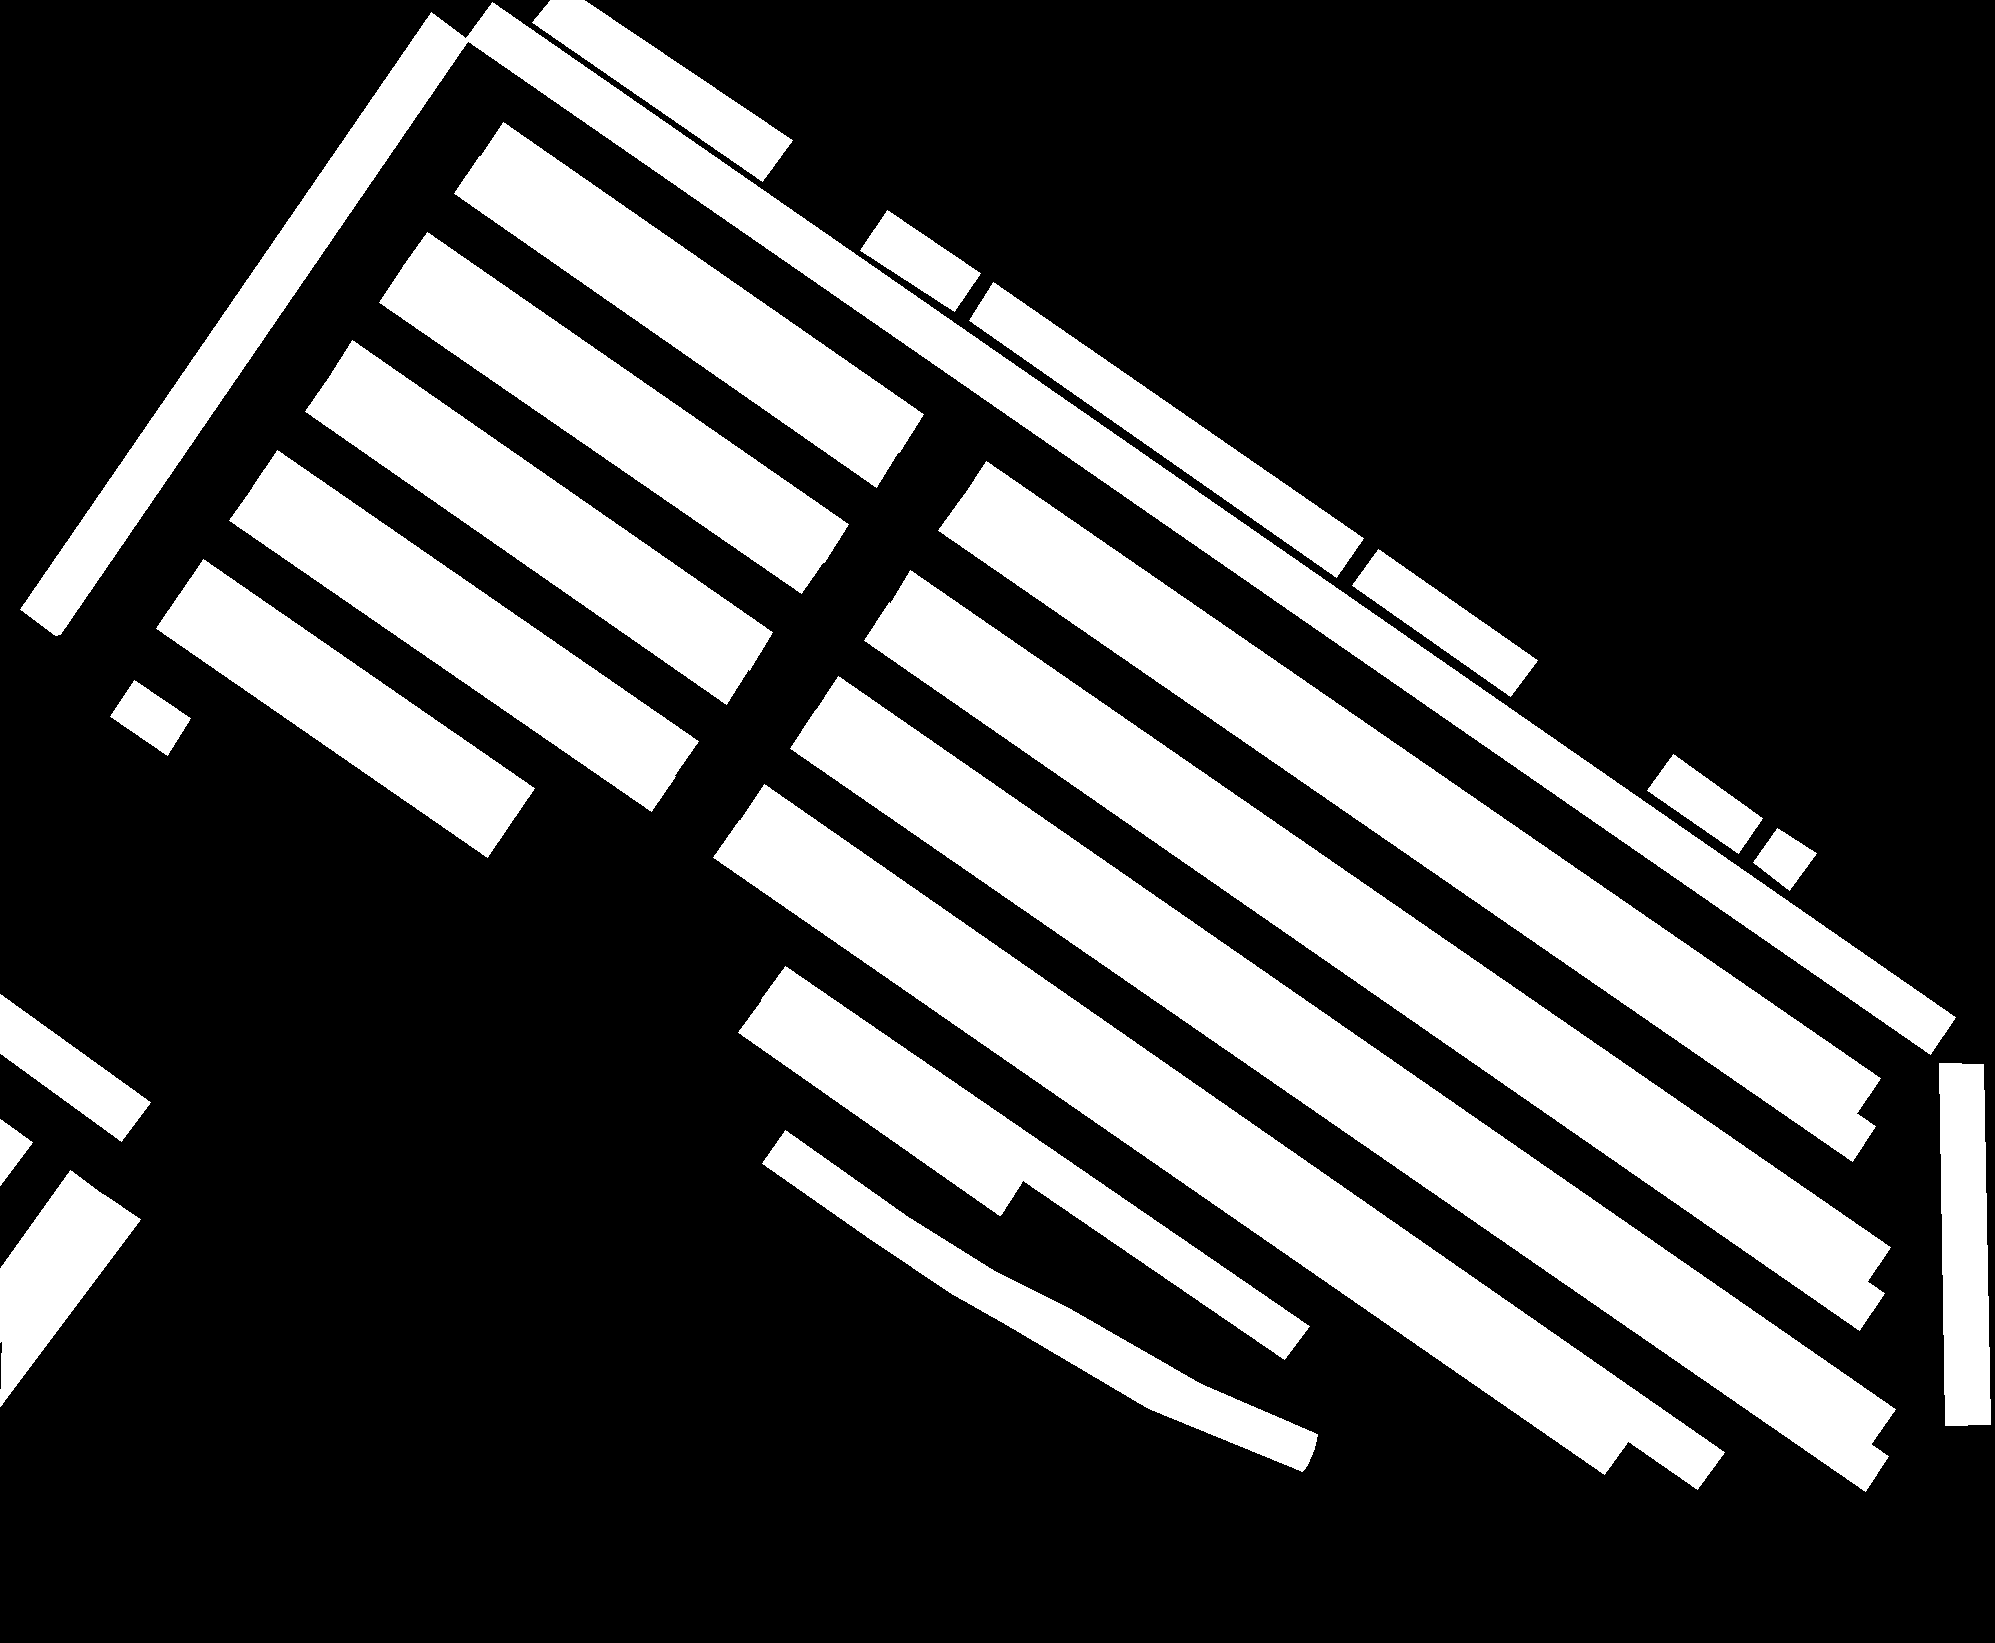parkingspot: (466, 2, 1955, 1053), (790, 711, 1887, 1491), (814, 676, 1896, 1446), (863, 601, 1884, 1330), (890, 570, 1891, 1284), (737, 783, 1723, 1489), (938, 494, 1876, 1161), (963, 460, 1881, 1115), (712, 820, 1630, 1474), (20, 12, 467, 634), (761, 966, 1309, 1360), (762, 1130, 1317, 1471), (454, 156, 900, 487), (328, 340, 772, 671), (403, 232, 848, 561), (305, 374, 751, 704), (479, 123, 923, 452), (252, 450, 698, 778), (379, 267, 825, 593), (229, 485, 674, 812), (969, 282, 1364, 576), (177, 560, 534, 826), (156, 595, 510, 856), (737, 999, 1024, 1216), (532, 0, 792, 181), (0, 1194, 139, 1406), (1352, 548, 1538, 696), (0, 994, 151, 1141), (1939, 1063, 1990, 1424), (0, 1169, 106, 1342), (860, 210, 979, 311), (1647, 754, 1761, 853), (109, 681, 191, 755), (1753, 828, 1816, 889), (0, 1120, 31, 1184)
